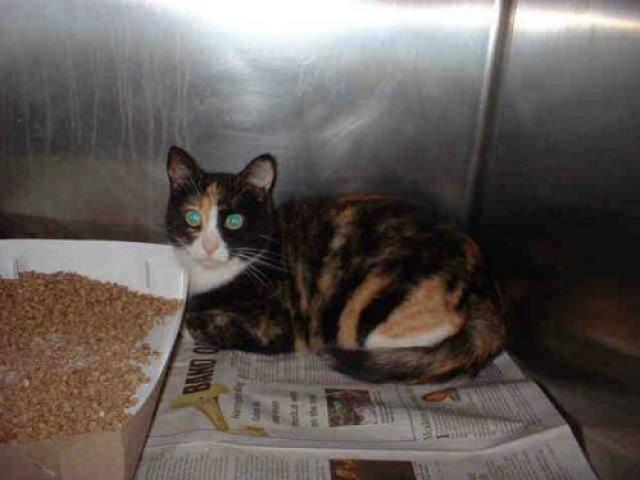cat: (153, 141, 517, 389)
